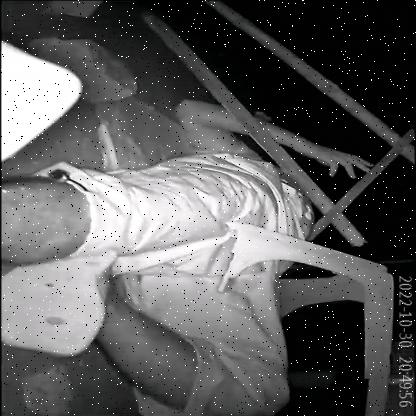hand: (156, 94, 386, 181)
leg: (0, 245, 239, 416)
